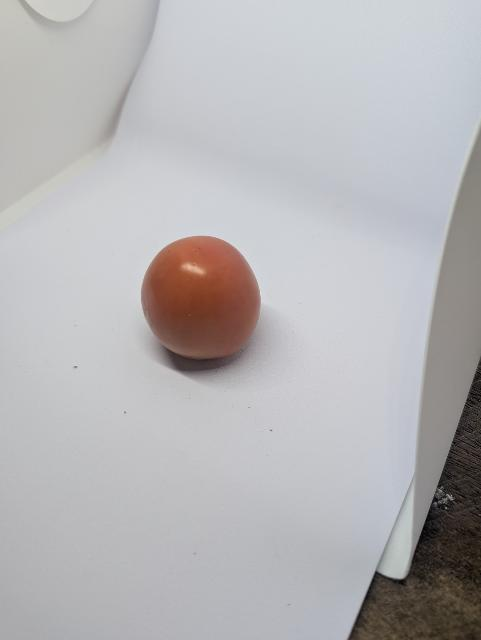red: (133, 230, 276, 368)
